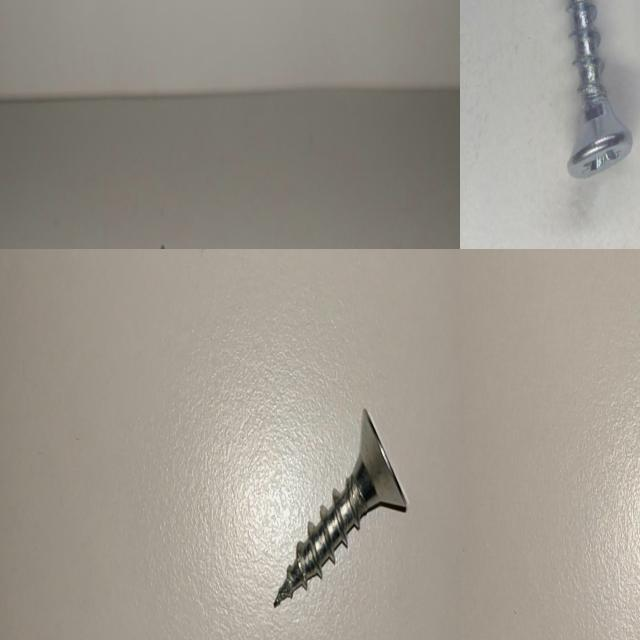Screw: (274, 408, 407, 606), (567, 0, 632, 177)
